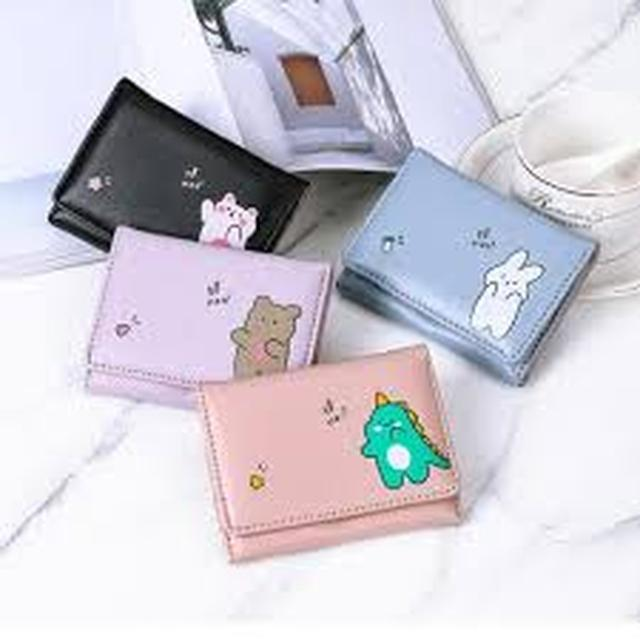wallet: (337, 144, 608, 380), (198, 345, 468, 575), (44, 77, 319, 275), (196, 1, 508, 171), (86, 227, 333, 411)
